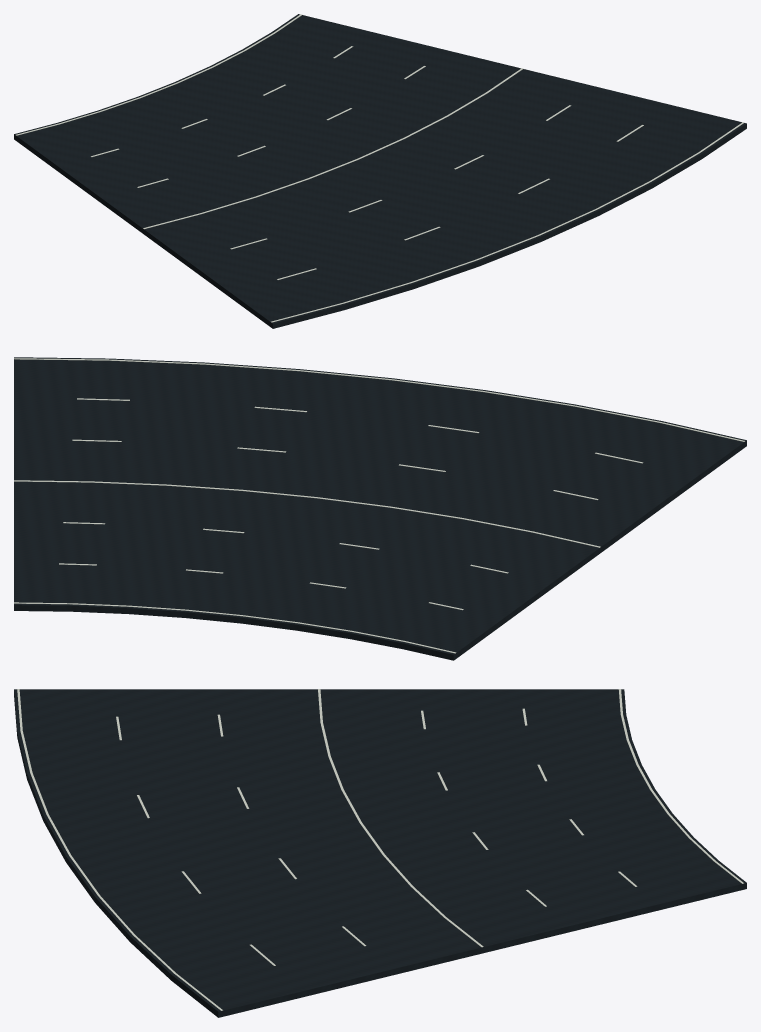
Rendered from Transit_Road_6L_Curve30_R36.glb.
The picture shows the model from 3 angles, top to bottom: view 1: azimuth 30°, elevation 25°; view 2: azimuth 150°, elevation 25°; view 3: azimuth 270°, elevation 25°; orthographic projection. The views are drawn at different scales.
Parts seen in each view (by area): view 1: Transit_Road_6L_Curve30_R36_Surface, Transit_Road_6L_Curve30_R36_MarkEdge-1, Transit_Road_6L_Curve30_R36_MarkLane3, Transit_Road_6L_Curve30_R36_MarkEdge+1; view 2: Transit_Road_6L_Curve30_R36_Surface, Transit_Road_6L_Curve30_R36_MarkEdge-1, Transit_Road_6L_Curve30_R36_MarkLane3, Transit_Road_6L_Curve30_R36_MarkEdge+1; view 3: Transit_Road_6L_Curve30_R36_Surface, Transit_Road_6L_Curve30_R36_MarkEdge-1, Transit_Road_6L_Curve30_R36_MarkLane3, Transit_Road_6L_Curve30_R36_MarkEdge+1.
Part boxes in pixels (x1,y1,x2,y2): Transit_Road_6L_Curve30_R36_Surface: (14, 14, 746, 328); Transit_Road_6L_Curve30_R36_MarkEdge-1: (271, 122, 744, 322); Transit_Road_6L_Curve30_R36_MarkLane3: (143, 68, 523, 229); Transit_Road_6L_Curve30_R36_MarkEdge+1: (15, 14, 302, 135); Transit_Road_6L_Curve30_R36_Surface: (14, 357, 746, 660); Transit_Road_6L_Curve30_R36_MarkEdge-1: (14, 358, 744, 441); Transit_Road_6L_Curve30_R36_MarkLane3: (14, 480, 600, 547); Transit_Road_6L_Curve30_R36_MarkEdge+1: (14, 602, 456, 653); Transit_Road_6L_Curve30_R36_Surface: (14, 689, 746, 1017); Transit_Road_6L_Curve30_R36_MarkEdge-1: (17, 689, 222, 1010); Transit_Road_6L_Curve30_R36_MarkLane3: (318, 689, 483, 947); Transit_Road_6L_Curve30_R36_MarkEdge+1: (618, 689, 743, 883).
Bounding box in the file's own units: 22.5 × 0.212 × 21.62.
Materials: 2 (1 with a texture image).
